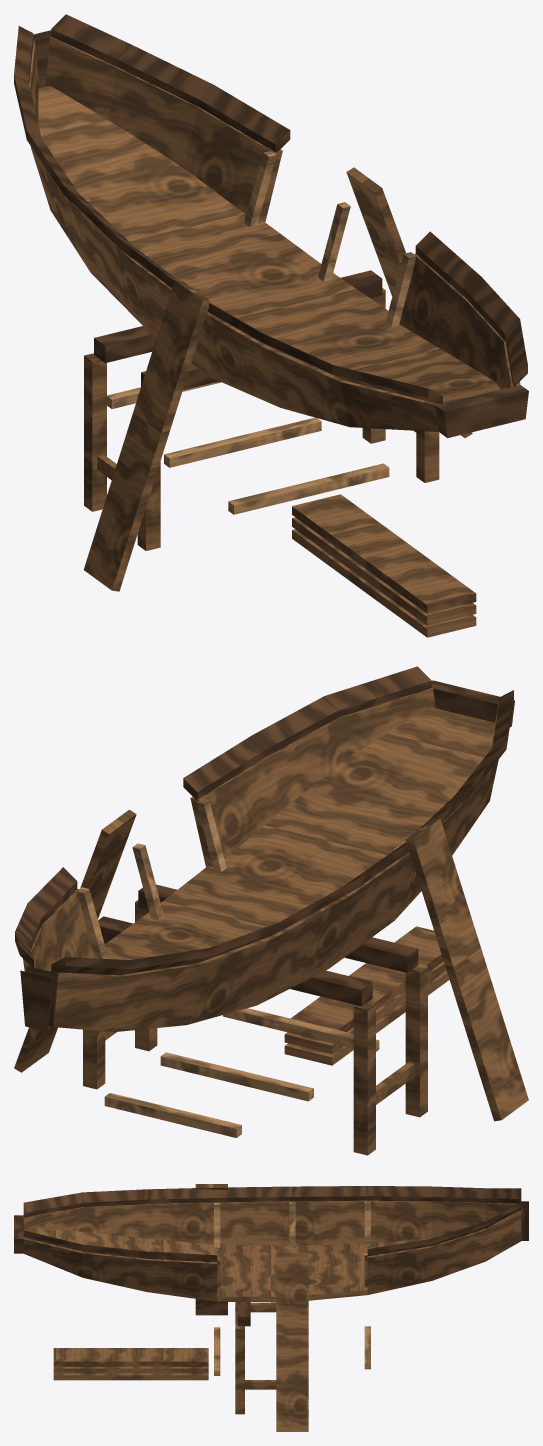
File: sampan_repair.fbx
The picture shows the model from 3 angles, top to bottom: view 1: azimuth 30°, elevation 25°; view 2: azimuth 150°, elevation 25°; view 3: azimuth 270°, elevation 25°; orthographic projection. The views are drawn at different scales.
Visible parts, largest first — view 1: sampan_repair; view 2: sampan_repair; view 3: sampan_repair.
Boxes of the visible parts, x1,y1,x2,y2 form: sampan_repair: [14, 14, 528, 637]; sampan_repair: [14, 666, 528, 1155]; sampan_repair: [14, 1184, 528, 1431].
Bounding box in the file's own units: 265 × 183 × 479.
